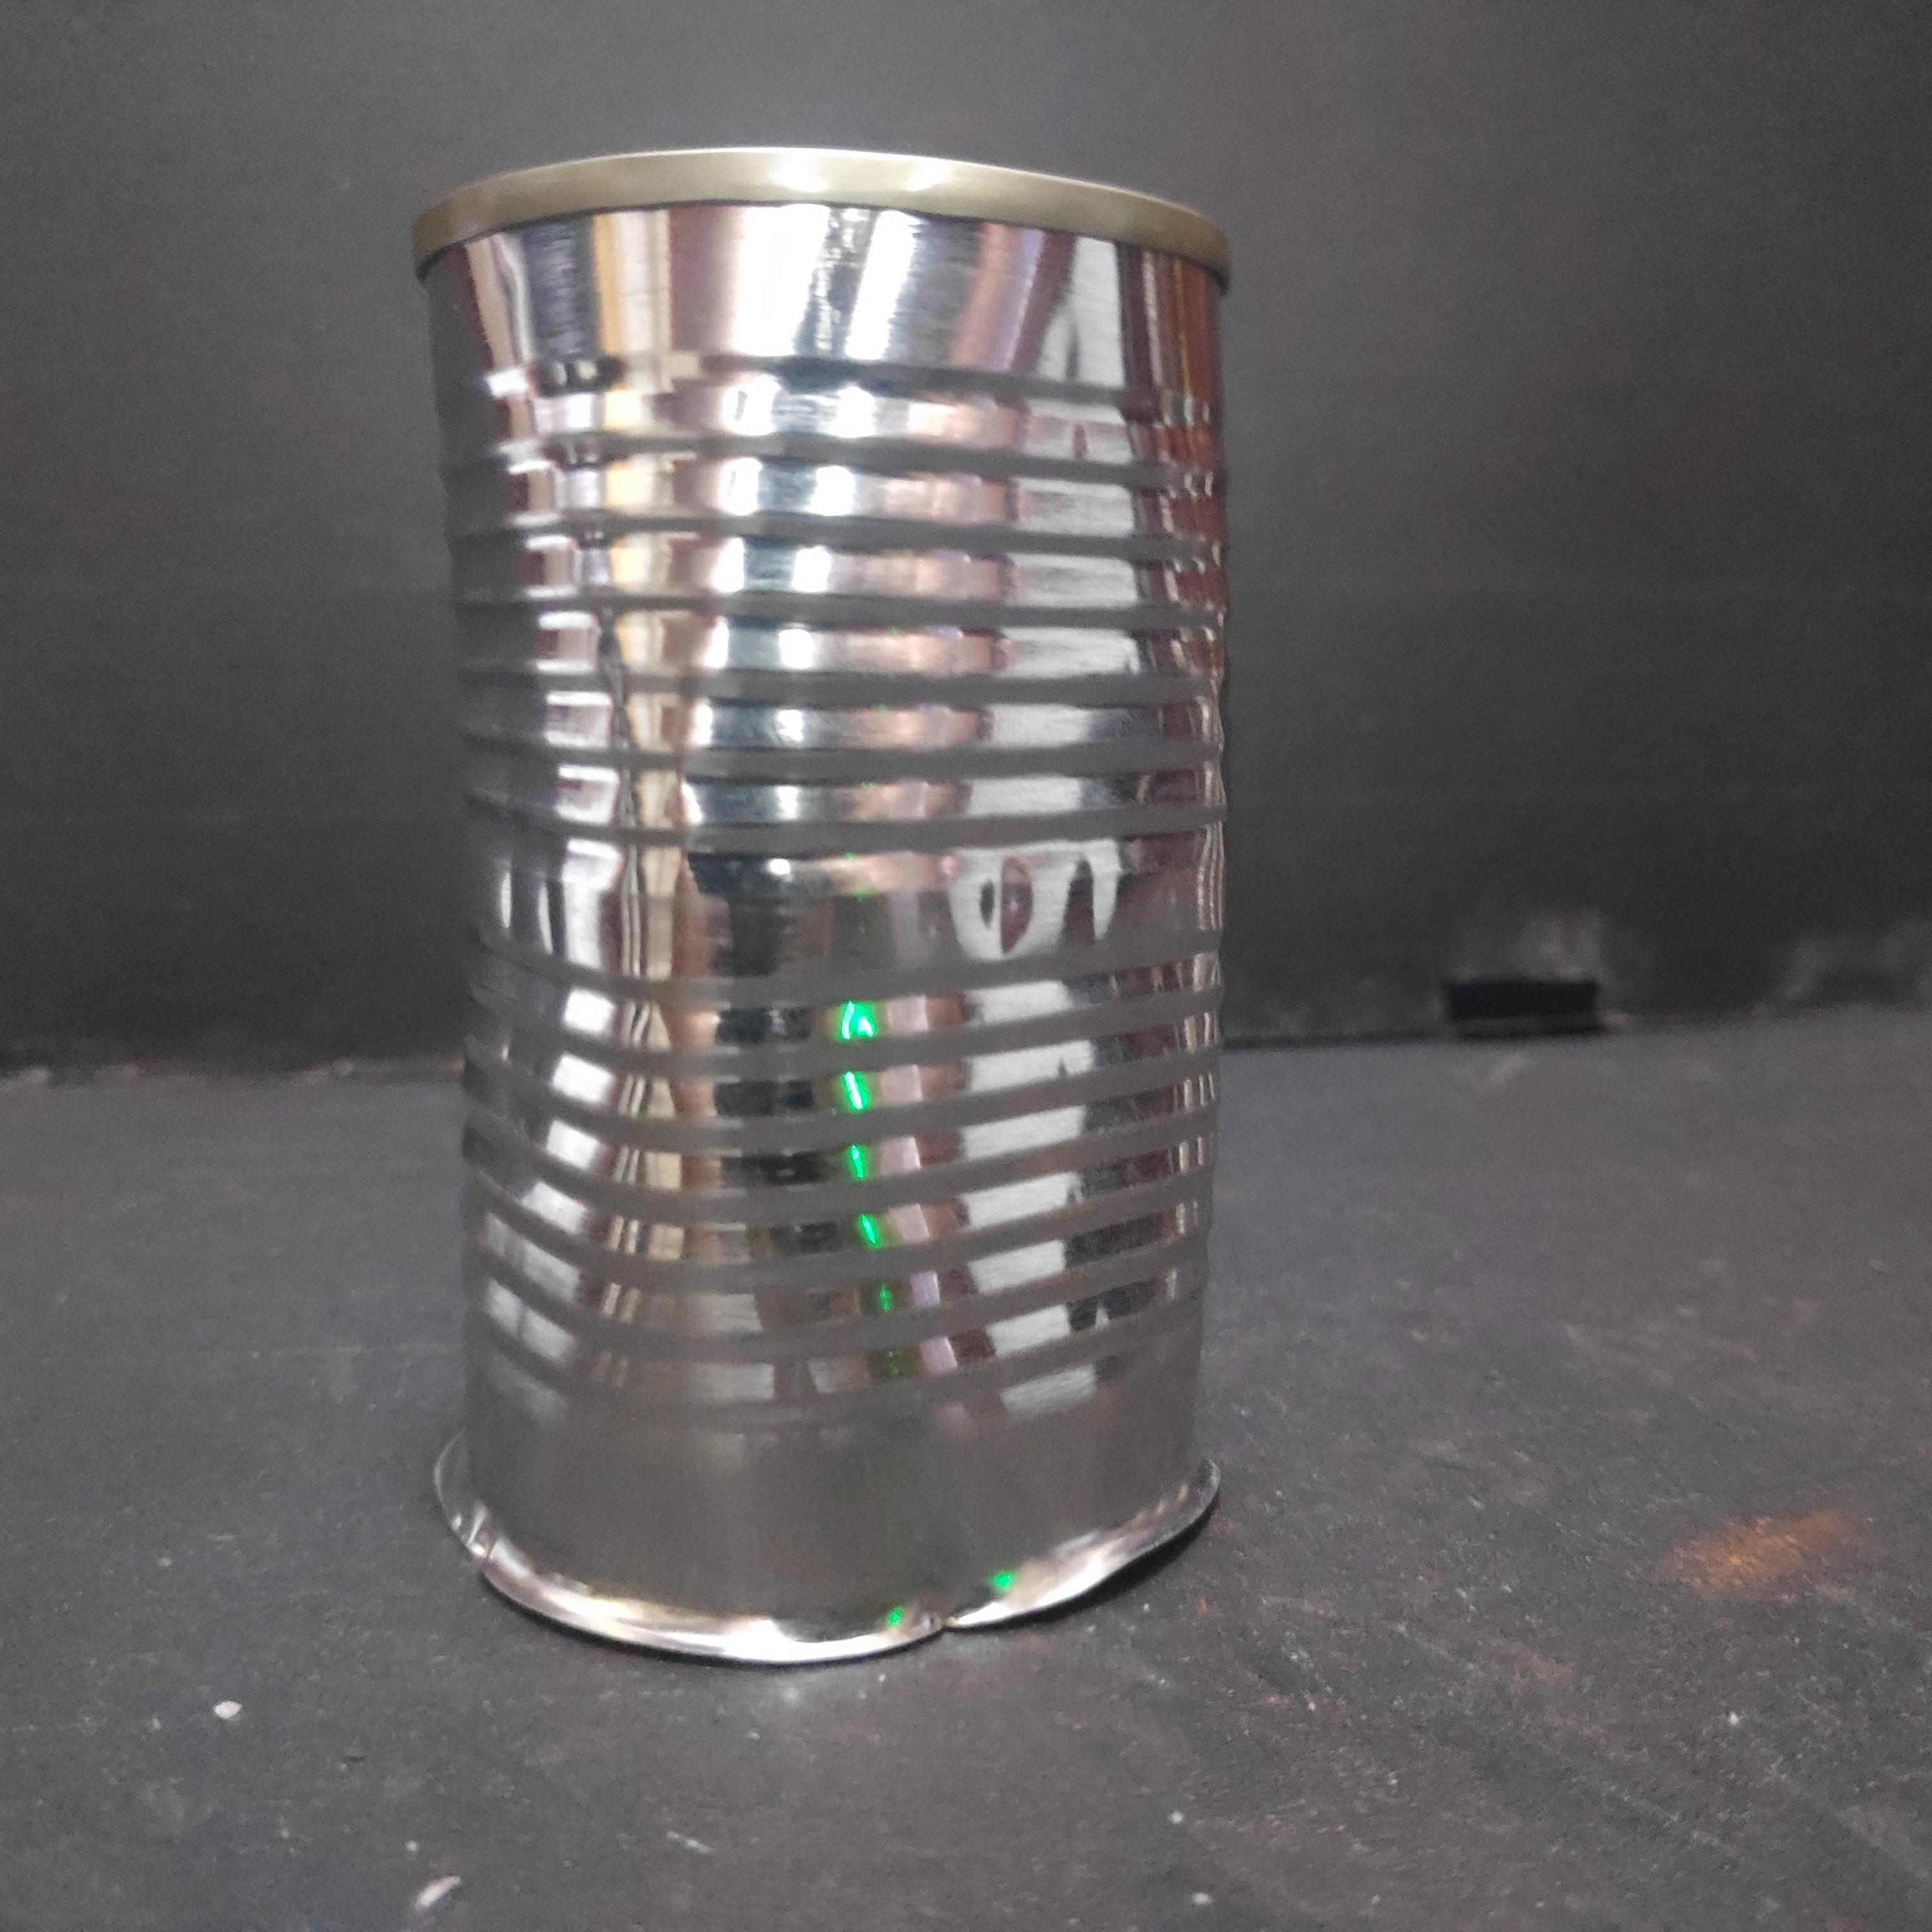Minor Defect: (403, 138, 1249, 1667)
